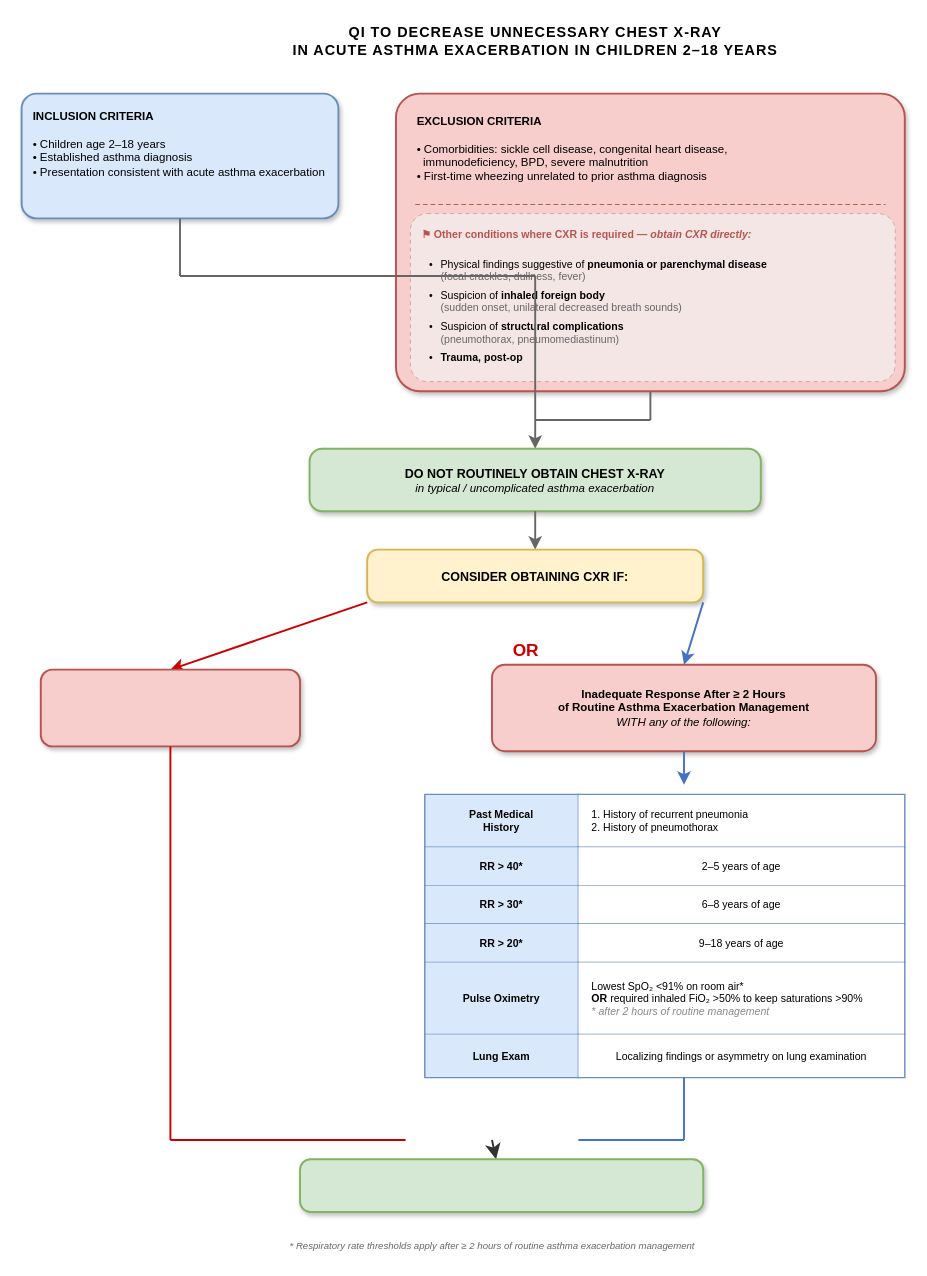
The diagram is 927 pixels wide and 1276 high, and some of its shapes have lost their labels. The shapes that lost their labels are listed below. From the top down, each one's centre as x and y in pixels, then its label:
the point at 171,709: Severe Respiratory Distress Respiratory Score 7–12
the point at 502,1186: → OBTAIN CHEST X-RAY
